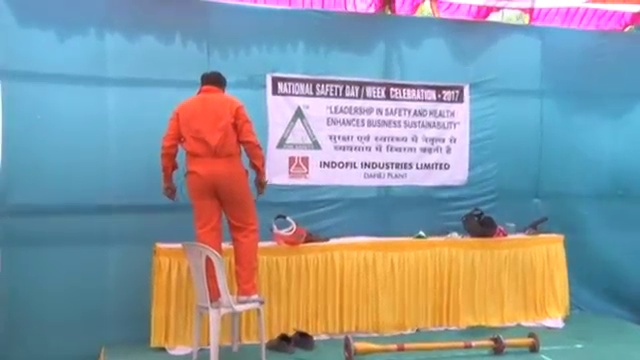helmet_off: (199, 68, 227, 98)
person: (158, 69, 267, 305)
